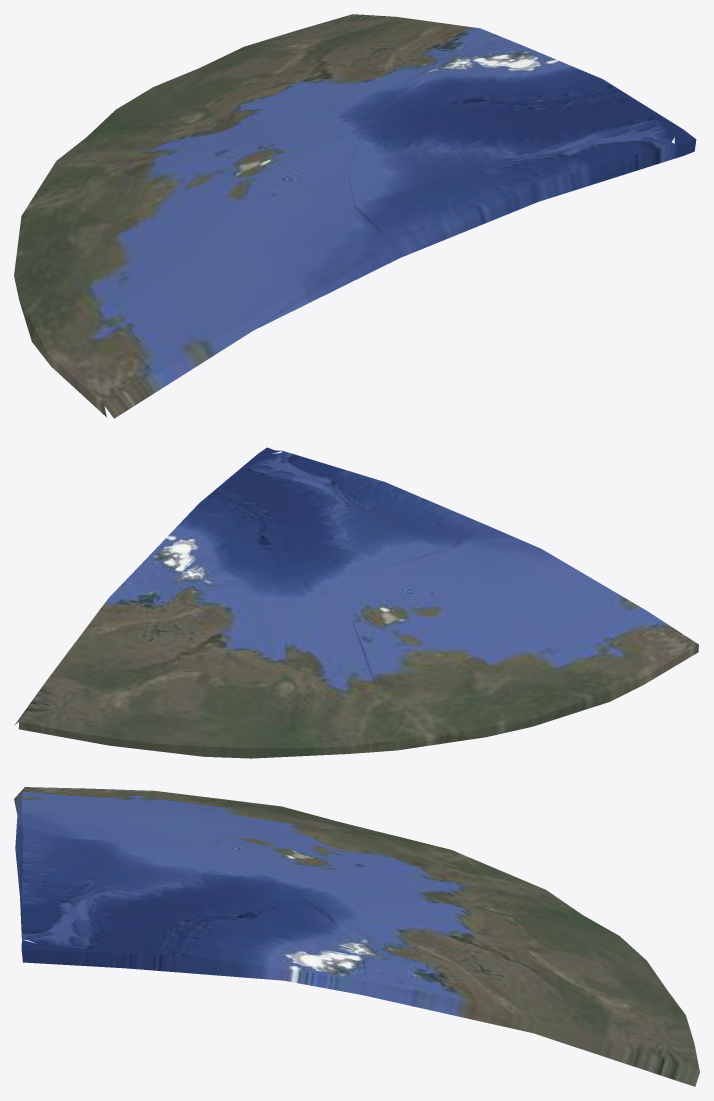
3 views of the same model, one above another, from view 1: azimuth 30°, elevation 25°; view 2: azimuth 150°, elevation 25°; view 3: azimuth 270°, elevation 25° (orthographic). The views are drawn at different scales.
Size of the model in its own units: 2492261 by 550843 by 2492252.
Materials: 1 (1 with a texture image).
